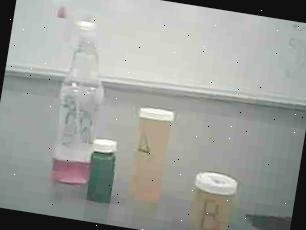Bottle A: (121, 99, 180, 214)
Bottle B: (180, 161, 247, 230)
Bottle C: (81, 132, 126, 205)
hazard: (23, 0, 124, 193)
